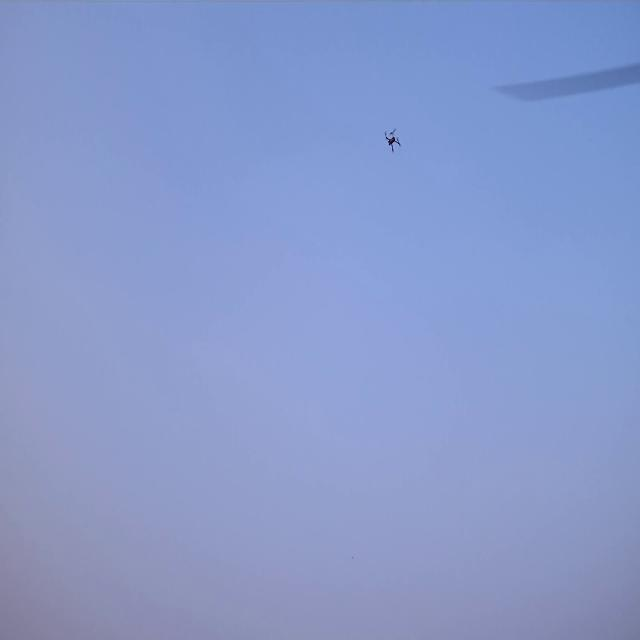UAV: (386, 132, 400, 150)
